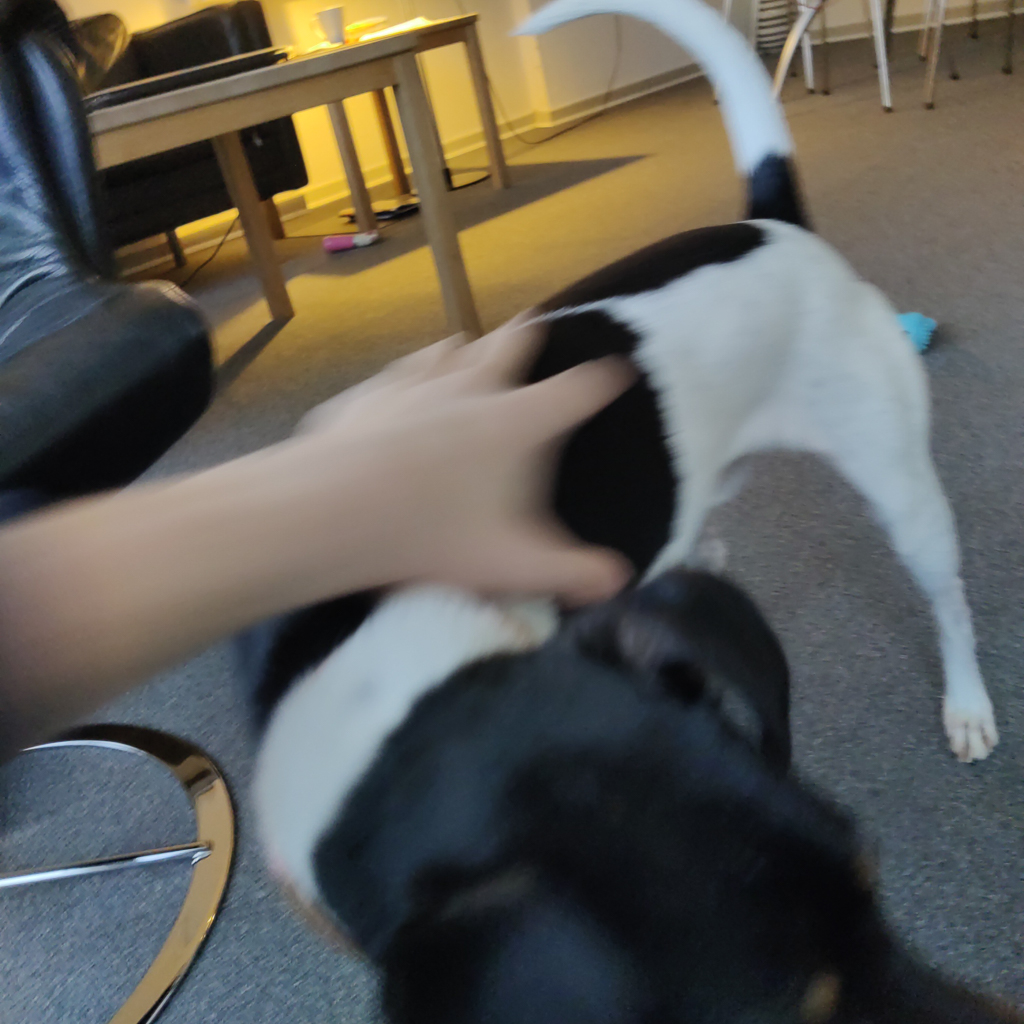Dog: (188, 0, 1024, 1024)
Humanoid: (0, 296, 647, 836)
